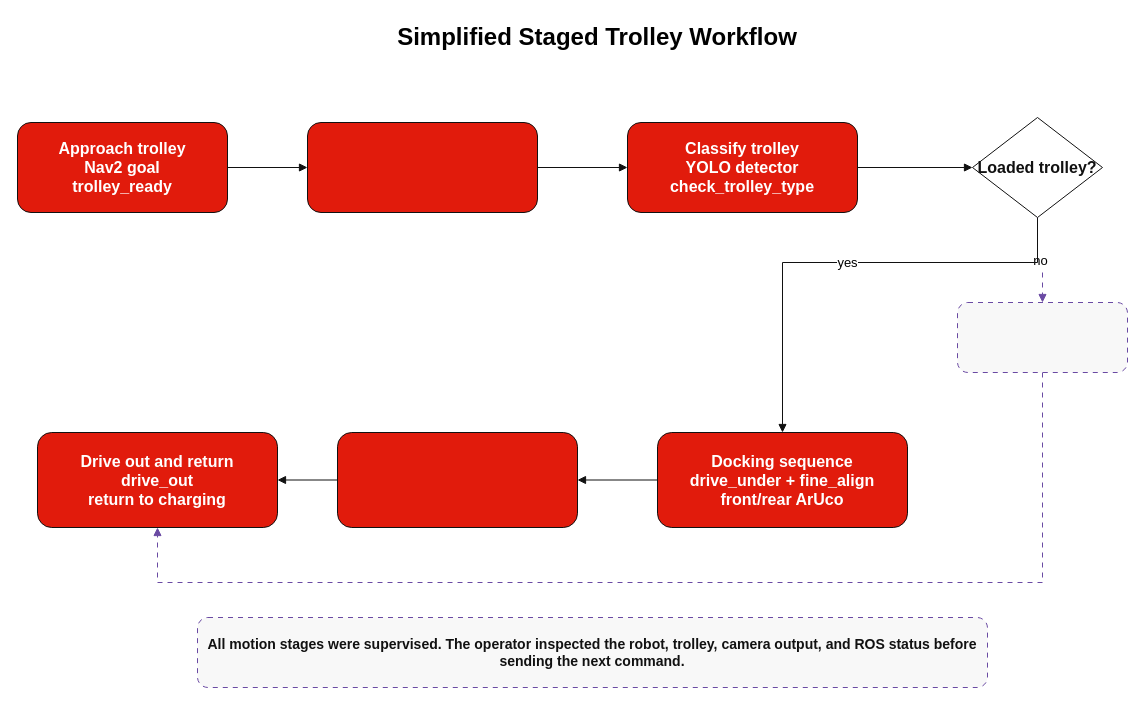
The diagram is 1145 pixels wide and 705 high, and some of its shapes have lost their labels. The shapes that lost their labels are listed below. From the top down, each one's centre as x and y in pixels, then its label:
point 422,167: Align with trolley side ArUco alignment side_align
point 1042,337: Empty trolley return / wait
point 457,480: Deliver trolley laundry or trash drop-off deliver_trolley
